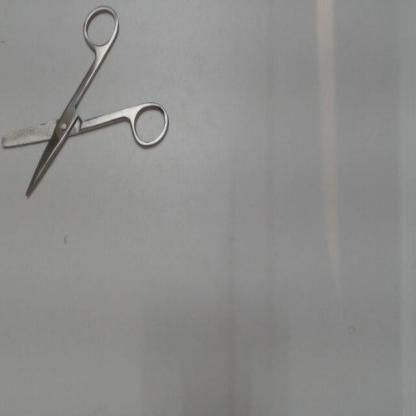Dressing Scissors: (0, 3, 176, 206)
